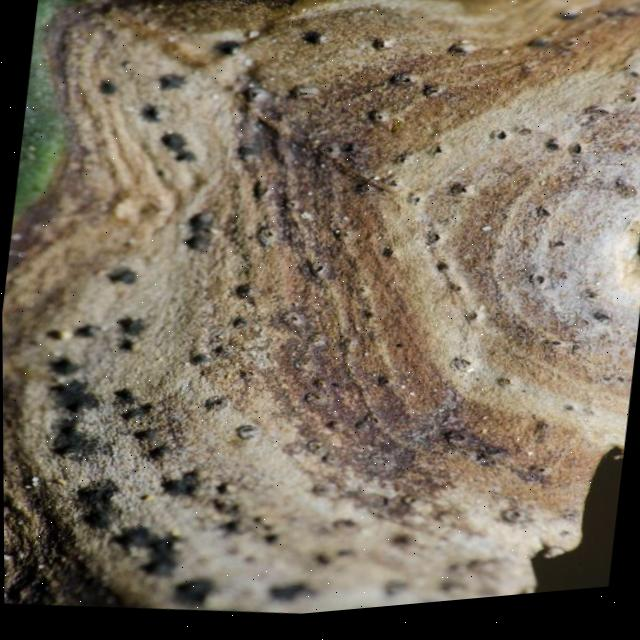Tea cloud leaf blight: (3, 0, 640, 640)
